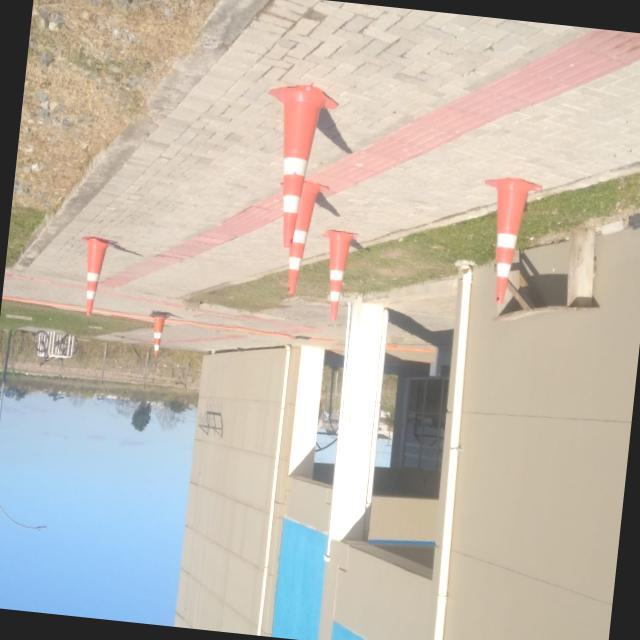cone: (242, 72, 351, 255), (463, 168, 547, 316), (306, 226, 366, 326), (68, 233, 118, 320), (140, 298, 174, 367)
